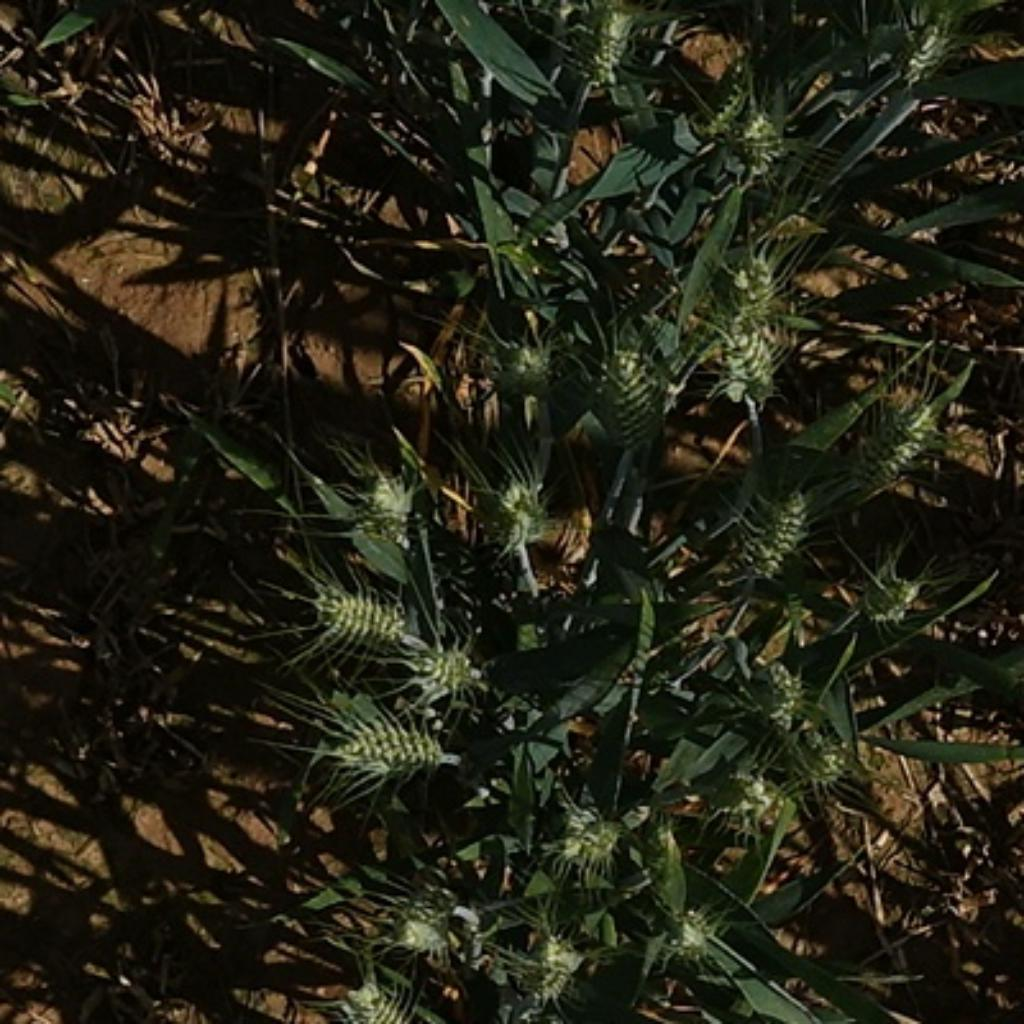0-0: (558, 309, 688, 450), (386, 844, 478, 965), (839, 381, 944, 486), (327, 704, 445, 783), (468, 460, 560, 560), (752, 698, 852, 788), (701, 81, 791, 176), (721, 645, 811, 734), (545, 785, 637, 872), (307, 578, 412, 652), (739, 478, 816, 576), (721, 238, 796, 335), (701, 762, 798, 837), (573, 1, 644, 101), (504, 924, 588, 1006), (348, 458, 424, 547), (888, 8, 960, 87), (482, 326, 561, 395), (847, 558, 924, 627), (652, 898, 724, 970), (407, 634, 483, 696), (332, 970, 419, 1024), (721, 325, 780, 399)
